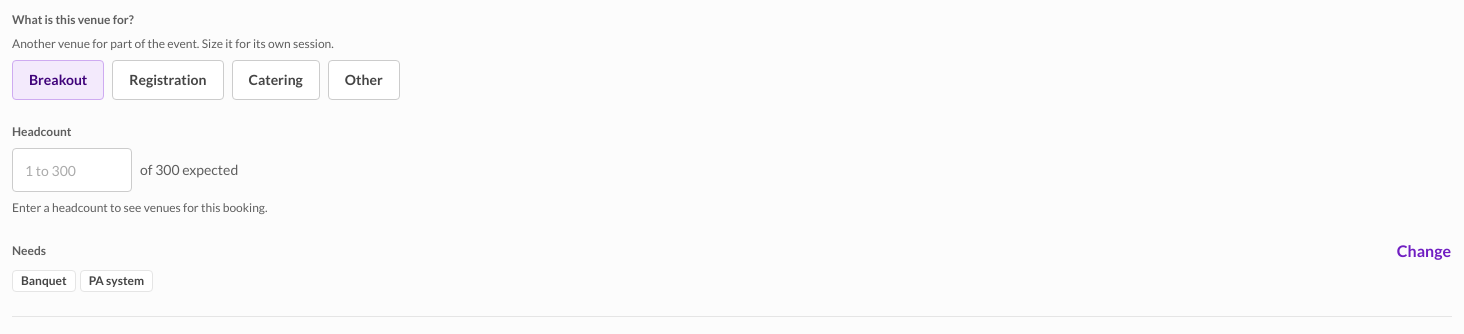
Test case: BookingPlanForm › AC1: a headcount above the event's attendance gives no plan and says why
This screenshot has width=1464, height=334.
Type "301" into the field at (72, 170), box [12,148,132,192]
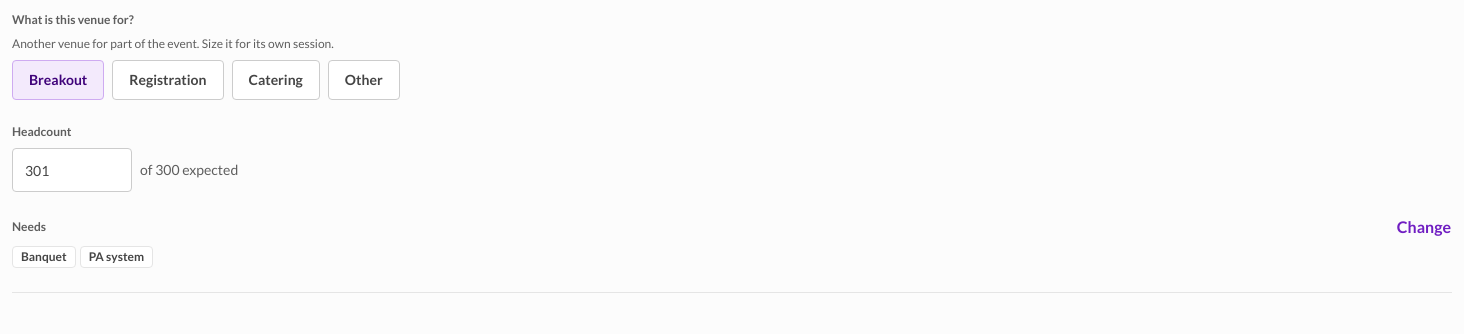
Leave the field labelled "Headcount of 300 expected", box [12,148,132,192]
Wait 500 ms
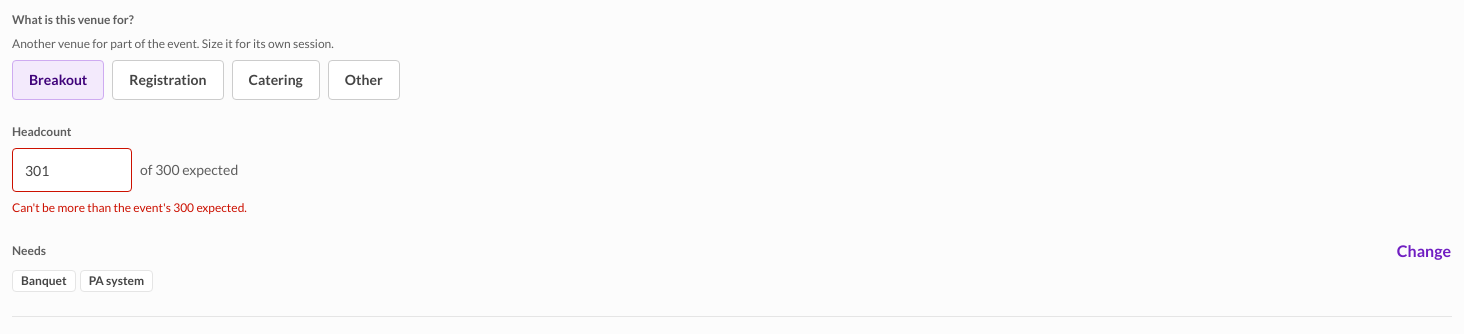
Expected: the text "Can't be more than the event's 300 expected." is shown, [12,200,247,215]
